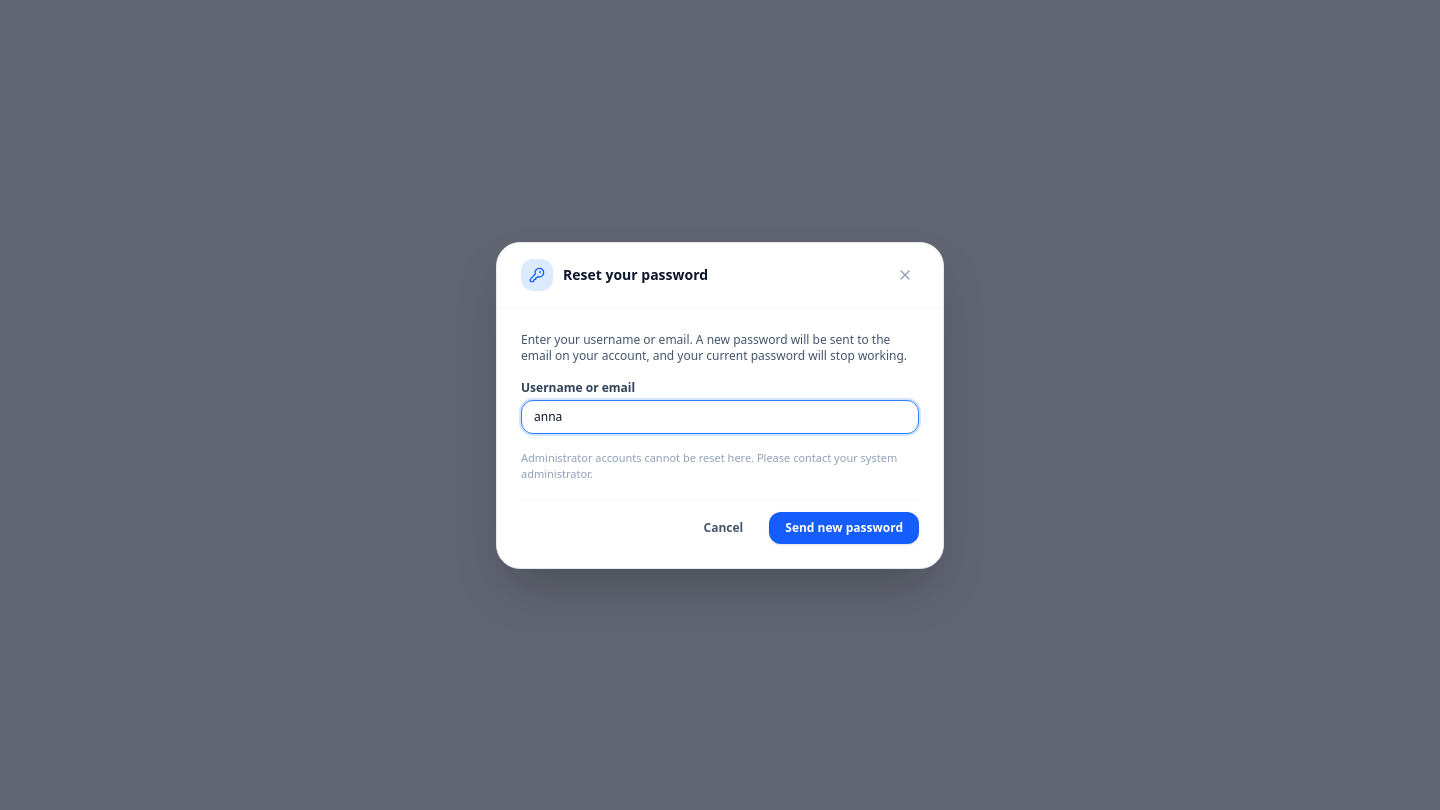
Scenario: submits the identifier and shows the generic confirmation
Replace the text in the field labelled "Username or email" with "anna@example.com" at (720, 416), box [521,400,919,434]
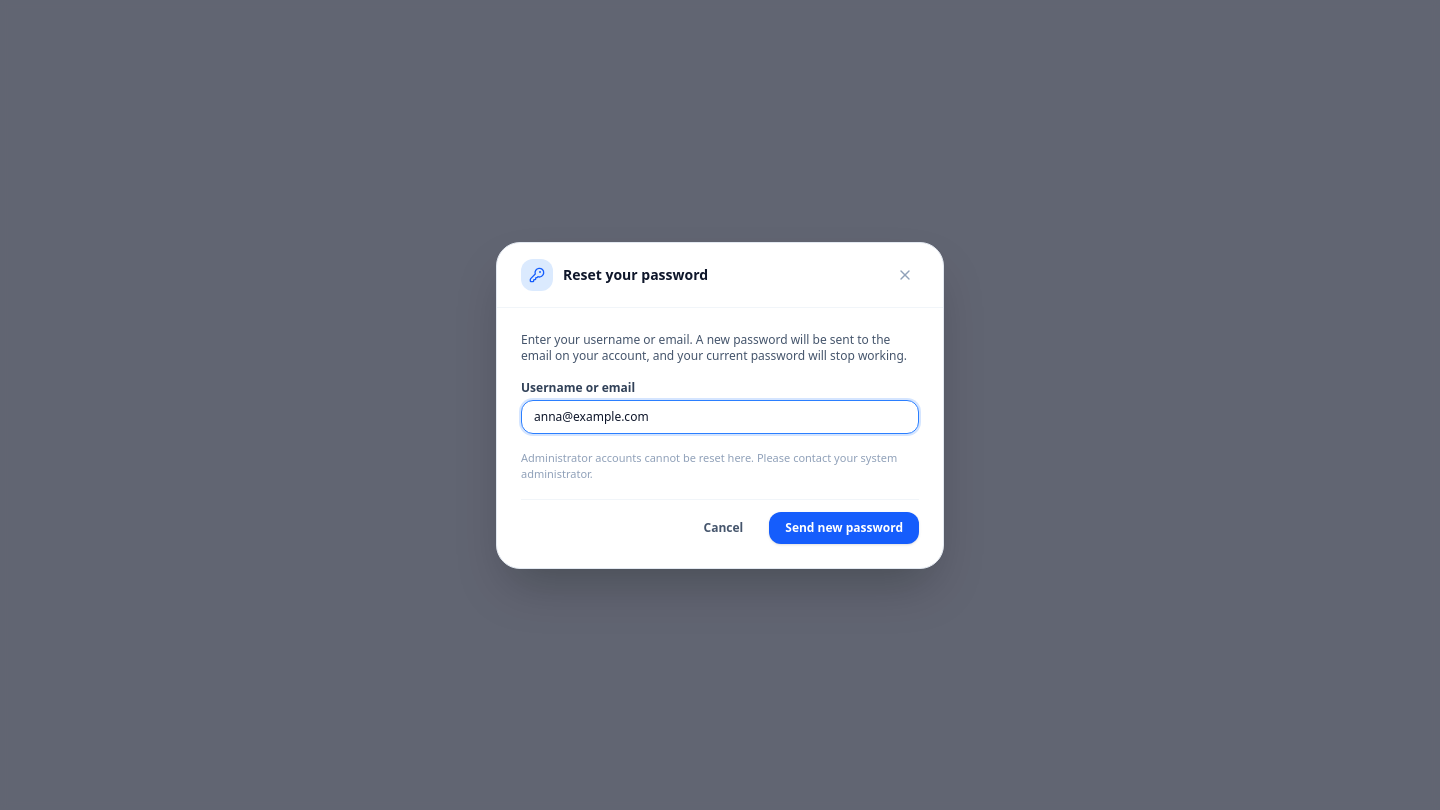
Click the button "Send new password".
click(844, 528)  # box [769,512,919,544]
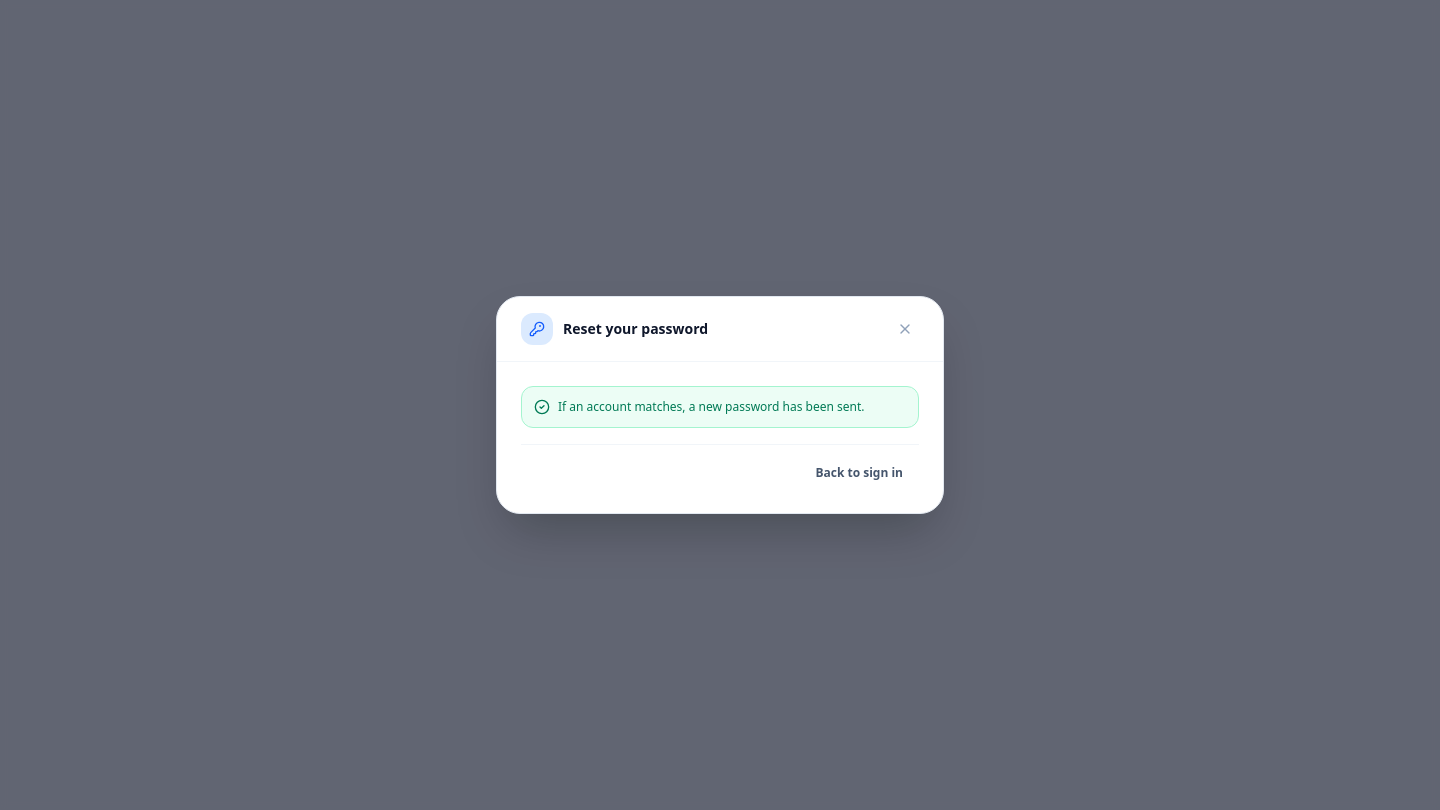
Now the text "If an account matches, a new password has been sent." is shown, box [558,399,864,415]
Now the button "Send new password" is gone
